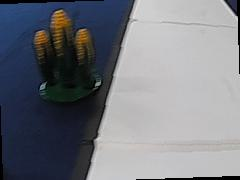corn: (31, 4, 101, 103)
